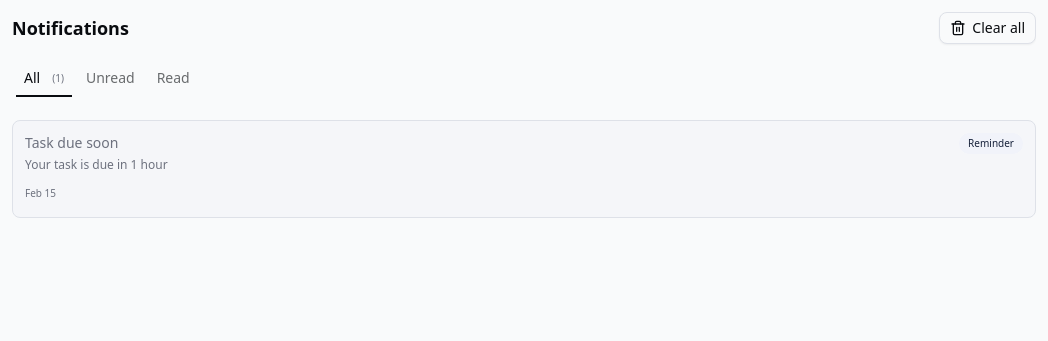
Test: NotificationCenter › includes dismissed notifications in read tab
Click the tab "Read": coordinates (173, 78) [148,64,199,92]
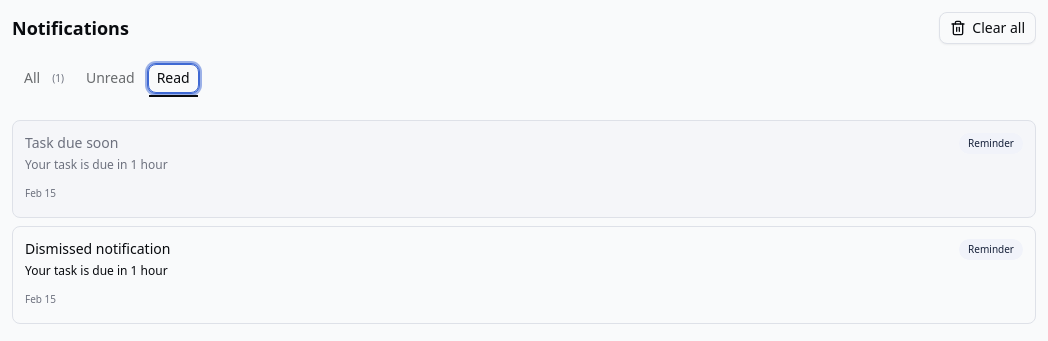
Expected: the text "Task due soon" is shown, [25,133,118,152]
Now the text "Dismissed notification" is shown, box [25,239,170,258]
